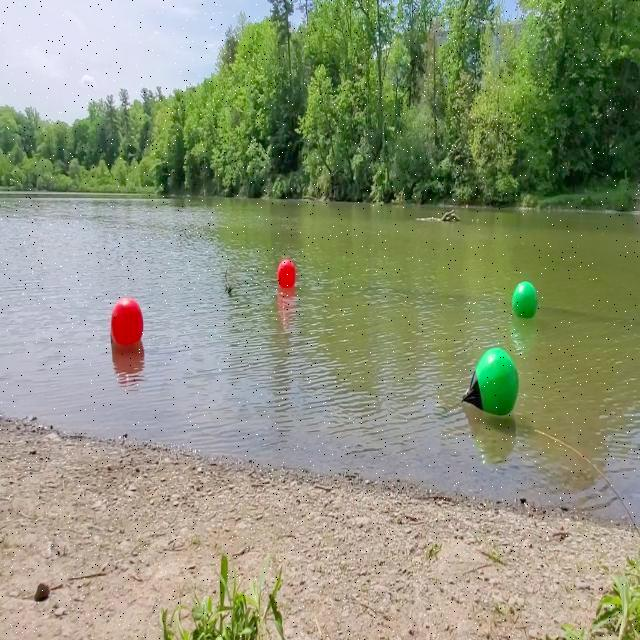buoy: (466, 346, 518, 420), (111, 298, 143, 346), (513, 280, 537, 320), (278, 258, 295, 288)
